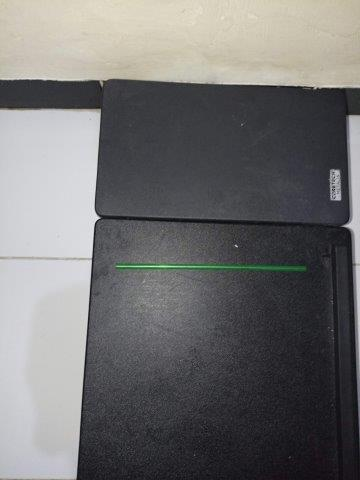sedotan: (116, 263, 305, 272)
